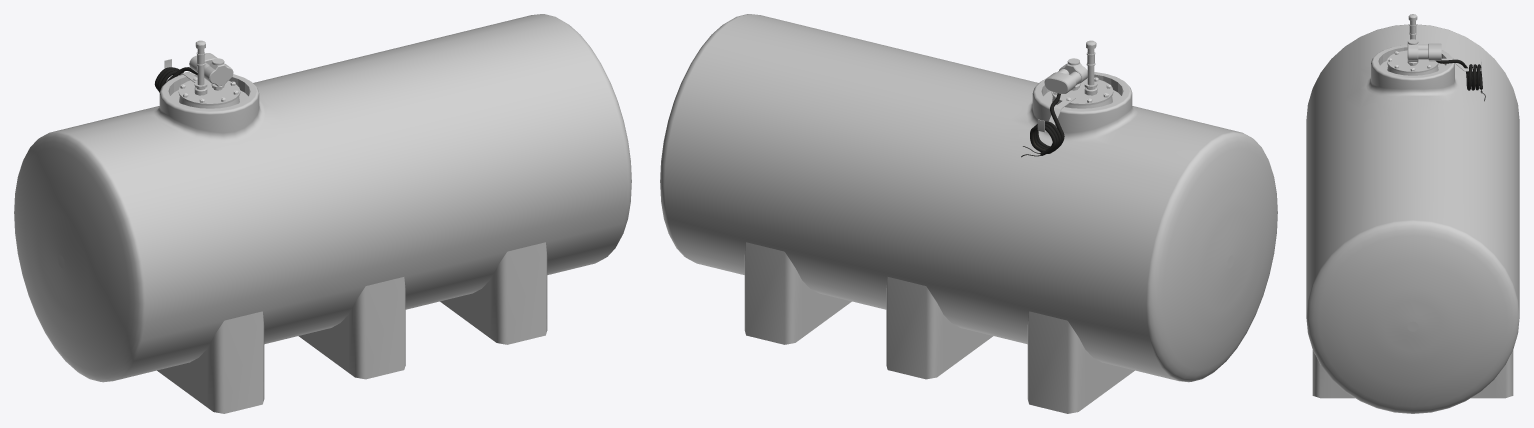
File: KB3D_DMZ_Tank_A.fbx
The picture shows the model from 3 angles, left to right: view 1: azimuth 30°, elevation 25°; view 2: azimuth 150°, elevation 25°; view 3: azimuth 270°, elevation 25°; orthographic projection. The views are drawn at different scales.
Parts seen in each view (by area): view 1: KB3D_DMZ_Tank_A_Main; view 2: KB3D_DMZ_Tank_A_Main; view 3: KB3D_DMZ_Tank_A_Main.
Part boxes in pixels (box(x1,y1,x2,y2)): KB3D_DMZ_Tank_A_Main: box(14, 14, 631, 413); KB3D_DMZ_Tank_A_Main: box(660, 14, 1277, 413); KB3D_DMZ_Tank_A_Main: box(1306, 14, 1519, 413).
Bounding box in the file's own units: 372 × 215 × 157.
